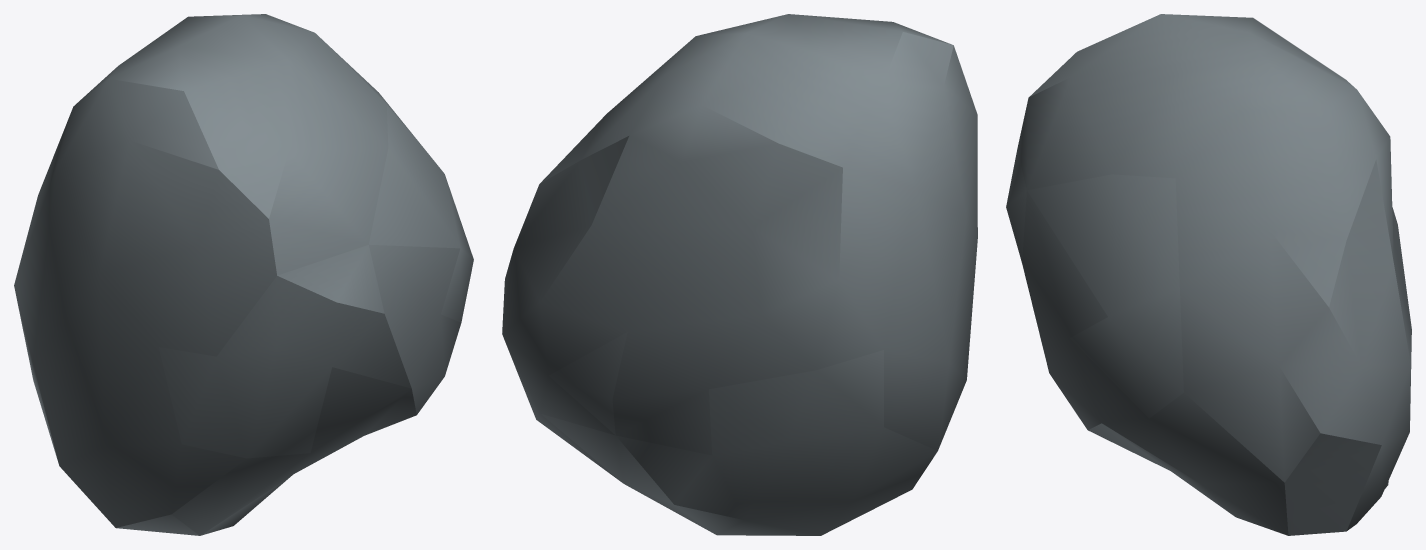
The model's file is Rock_3_I_Color1.glb.
The picture shows the model from 3 angles, left to right: view 1: azimuth 30°, elevation 25°; view 2: azimuth 150°, elevation 25°; view 3: azimuth 270°, elevation 25°; orthographic projection. The views are drawn at different scales.
Visible parts, largest first — view 1: Rock_3_I_Color1; view 2: Rock_3_I_Color1; view 3: Rock_3_I_Color1.
Part boxes in pixels (x1,y1,x2,y2): Rock_3_I_Color1: (14, 14, 473, 535); Rock_3_I_Color1: (502, 14, 977, 535); Rock_3_I_Color1: (1006, 14, 1411, 535).
Size of the model in its own units: 1.92 by 2.11 by 1.64.
1 material, 1 textured.
